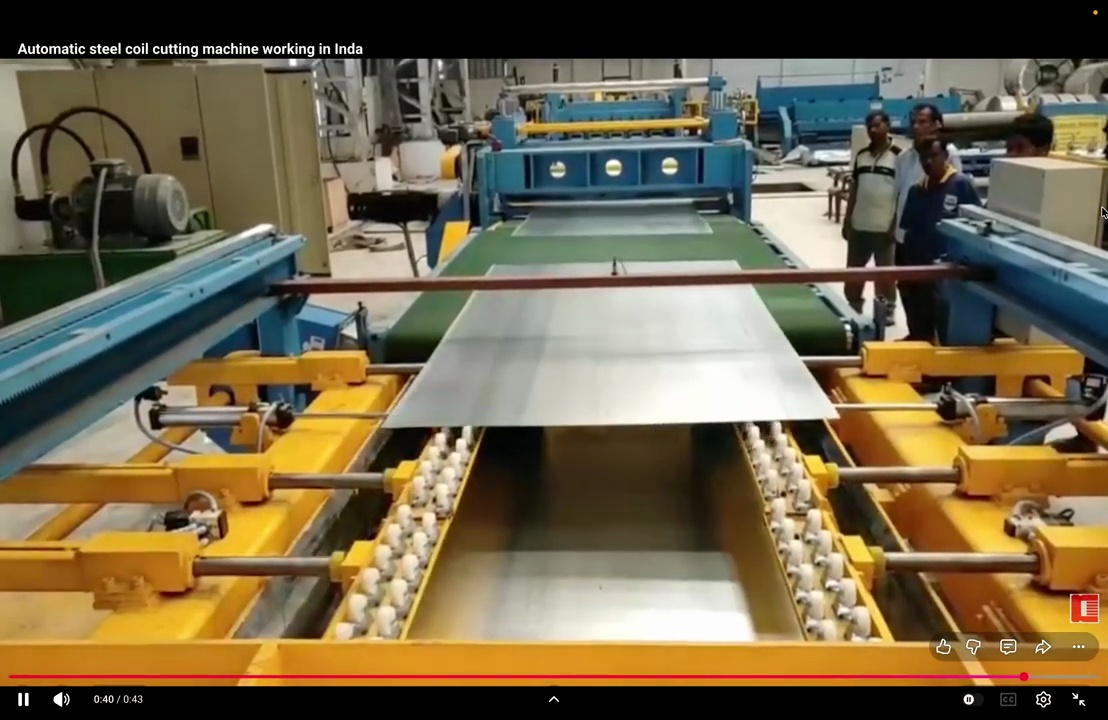steel plate: (385, 286, 836, 427), (512, 202, 711, 236)
